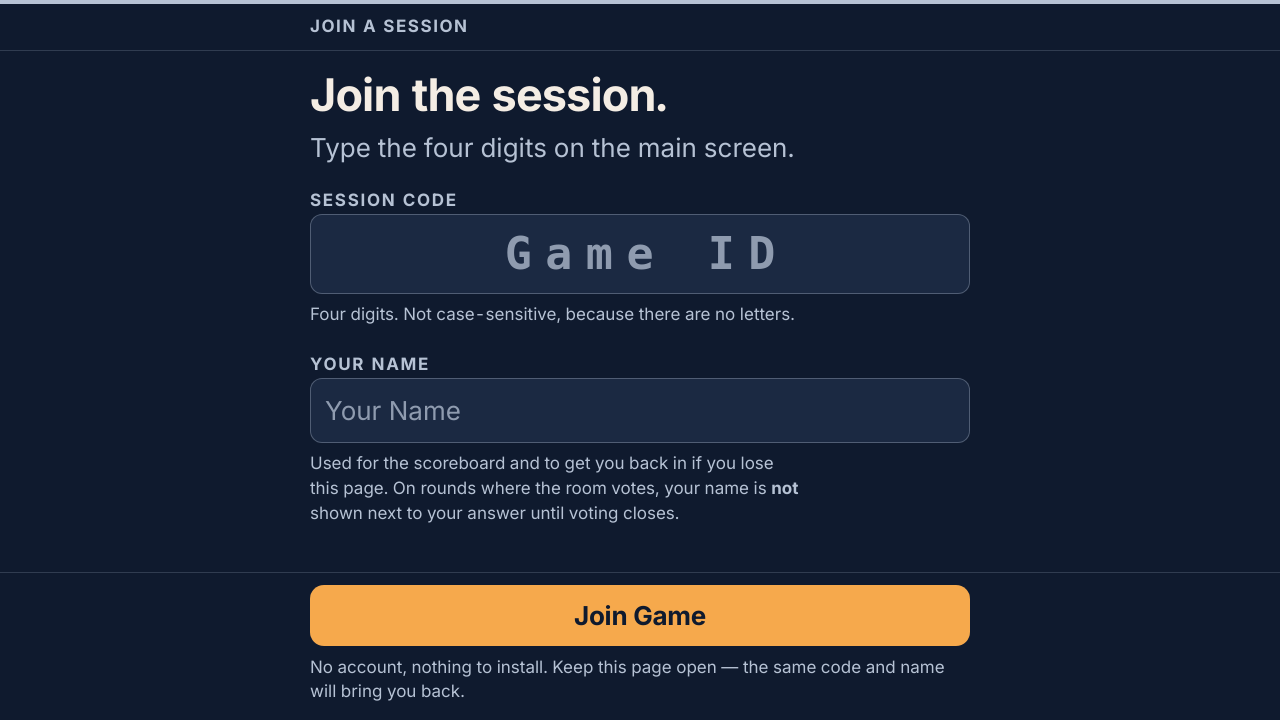
Test: PlayerPage — answered state and in-flight selection survive a refresh › a submitted answer survives switching away from the tab and back
This screenshot has width=1280, height=720.
In the field with placeholder "Game ID": coordinates (640, 254) x1=310 y1=214 x2=970 y2=294, type "TEST123"
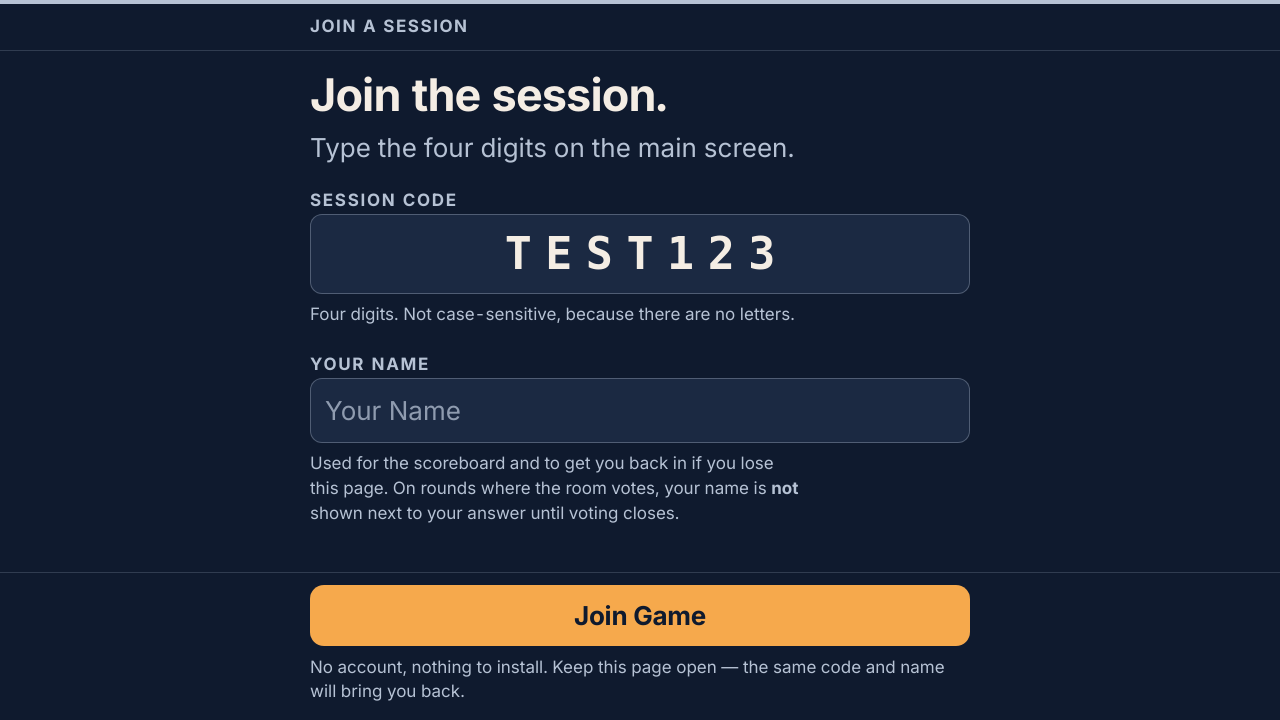
In the field with placeholder "Your name": coordinates (640, 411) x1=310 y1=378 x2=970 y2=443, type "TestPlayer"
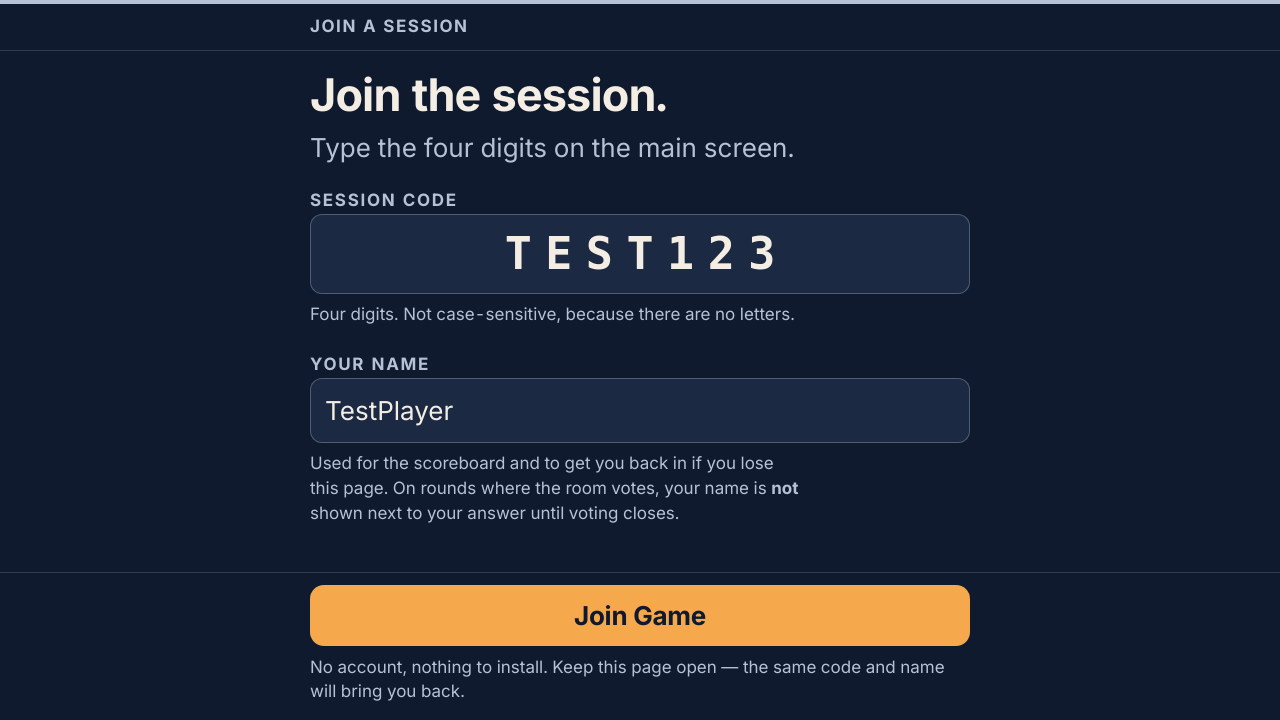
Click the button "Join Game": coordinates (640, 616) x1=310 y1=585 x2=970 y2=646
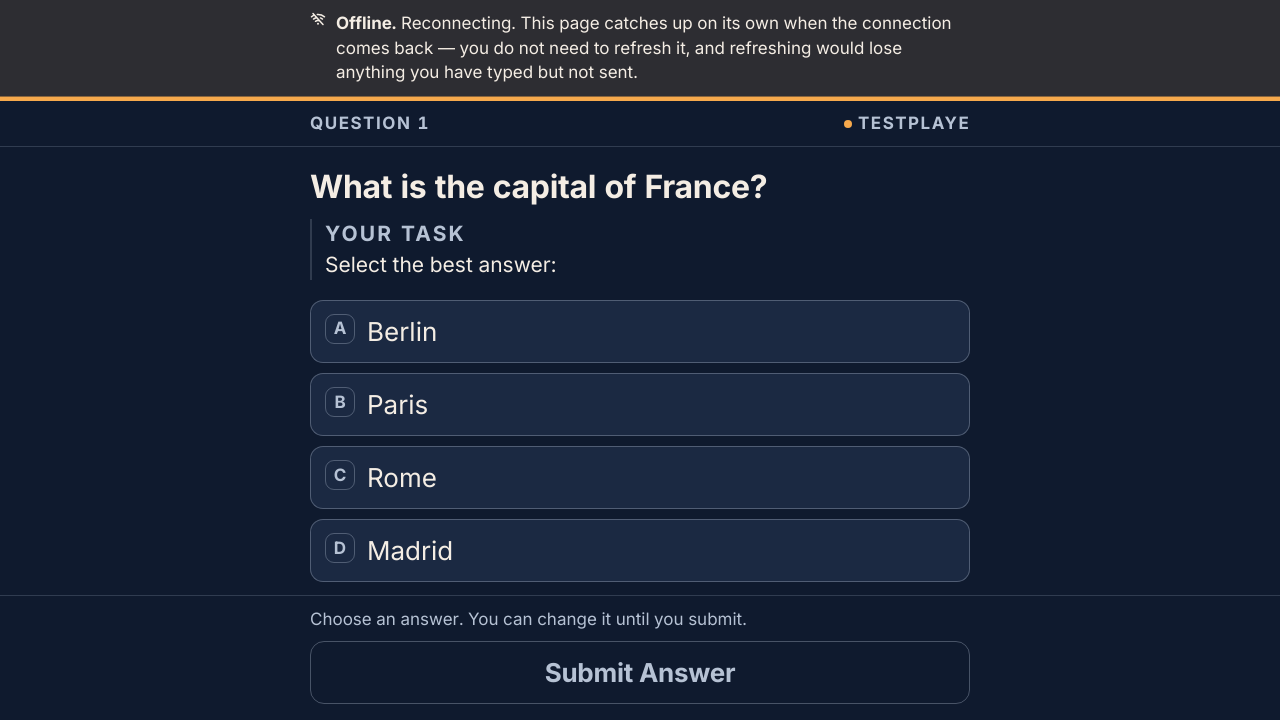
expect the text "What is the capital of France?" is shown: met, box x1=310 y1=167 x2=767 y2=206
Click the text "Paris": coordinates (398, 405) x1=367 y1=387 x2=428 y2=422
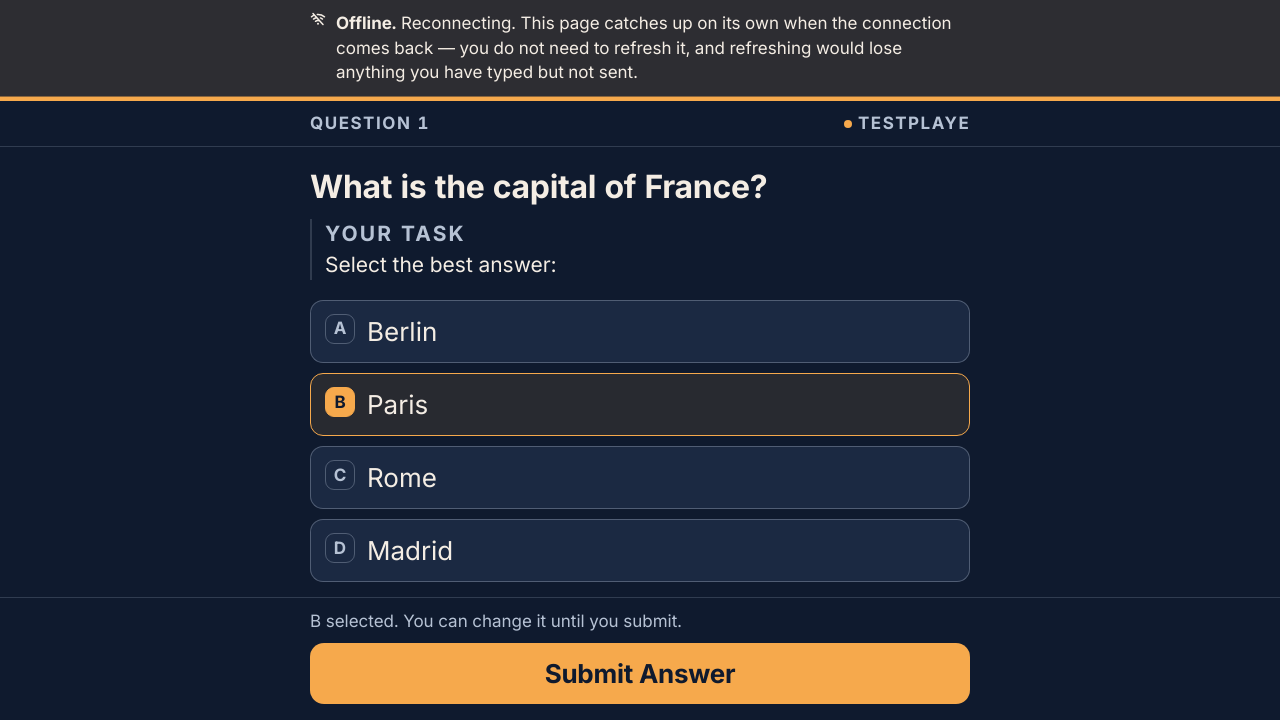
Click the button "Submit Answer": coordinates (640, 673) x1=310 y1=643 x2=970 y2=704
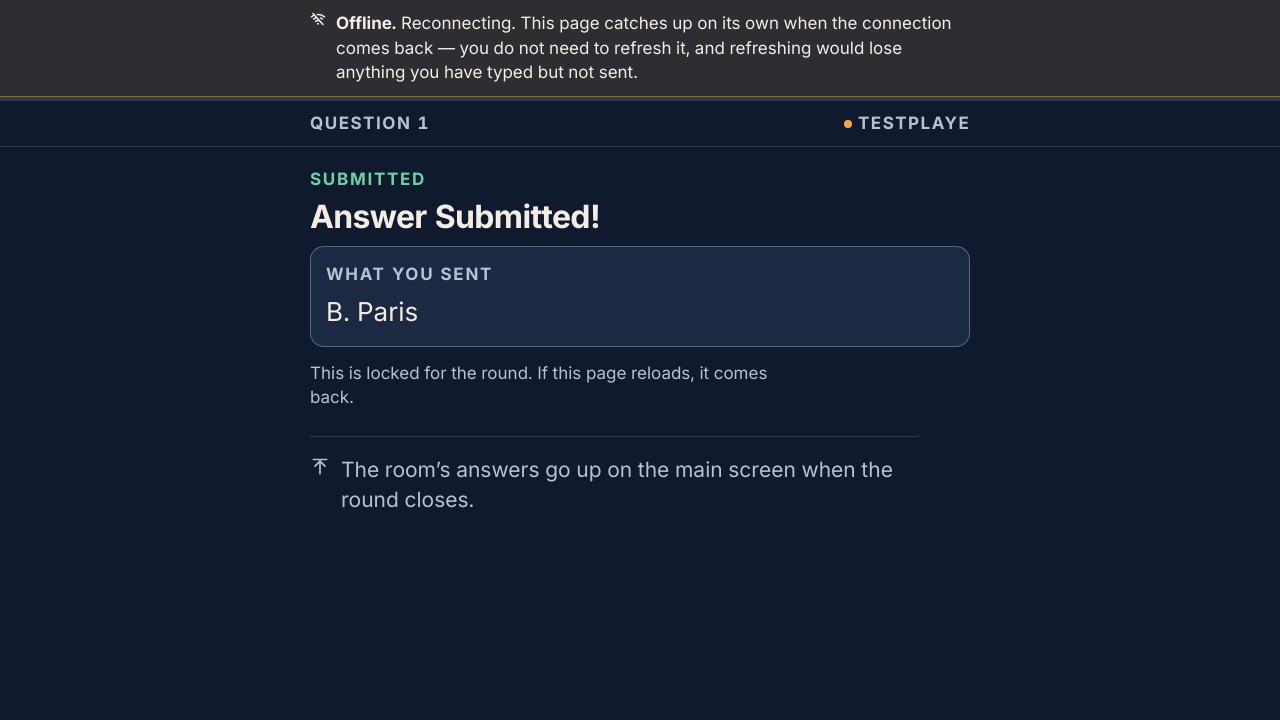
expect the heading "Answer Submitted!" is shown: met, box x1=310 y1=197 x2=600 y2=236
expect the button "Submit Answer" is gone: met
